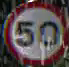Speed limit: (3, 0, 68, 65)
